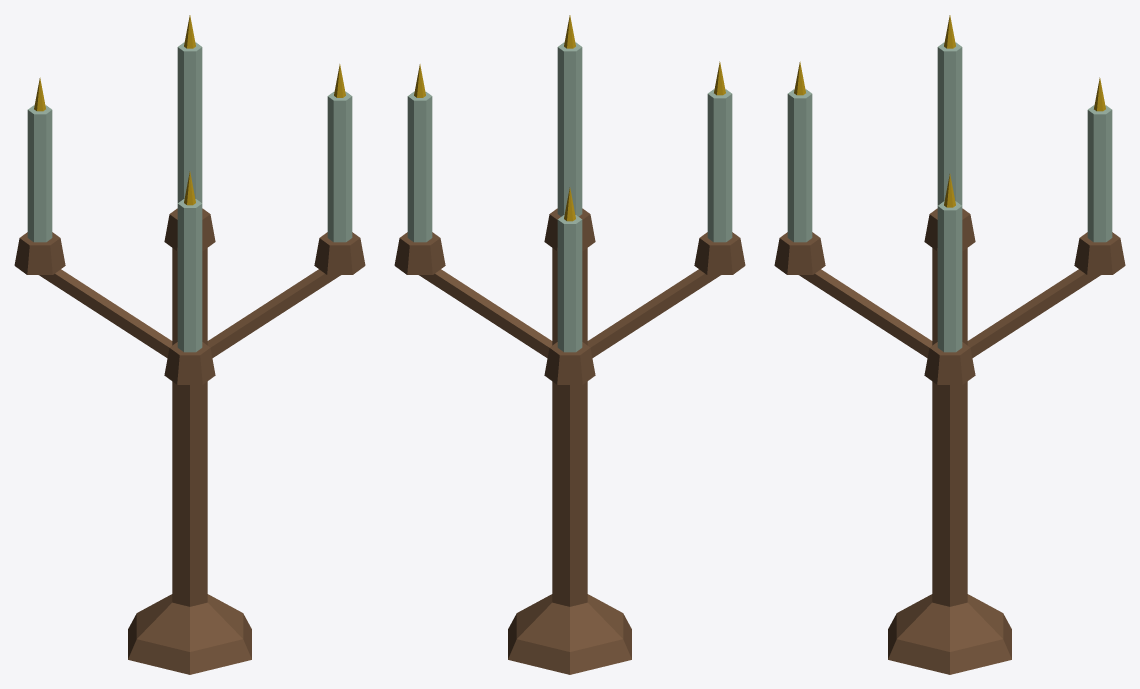
The model's file is candle-holder-26.glb.
3 views of the same model, side by side, from view 1: azimuth 30°, elevation 25°; view 2: azimuth 150°, elevation 25°; view 3: azimuth 270°, elevation 25° (orthographic).
Visible parts, largest first — view 1: candle_holder_26; view 2: candle_holder_26; view 3: candle_holder_26.
Part boxes in pixels (x1,y1,x2,y2): candle_holder_26: (14,15,365,674); candle_holder_26: (394,15,745,674); candle_holder_26: (774,15,1125,674).
Bounding box in the file's own units: 0.2968 × 0.6792 × 0.3427.
